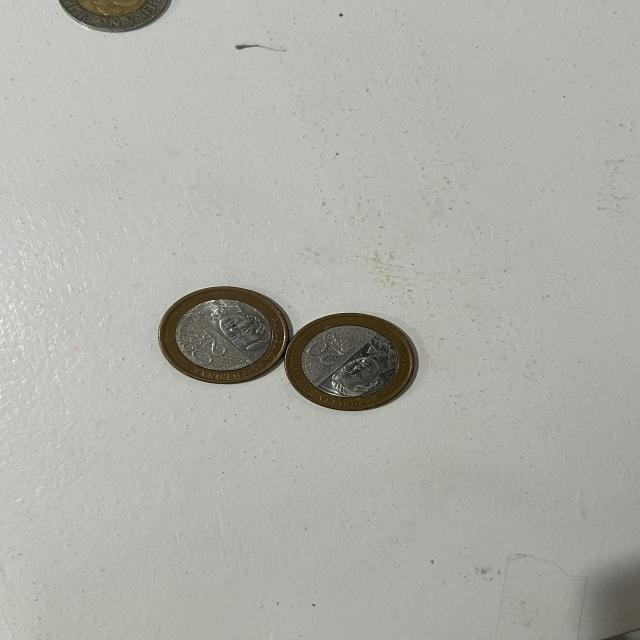20_New_Front: (182, 328, 230, 371), (304, 330, 352, 371)
